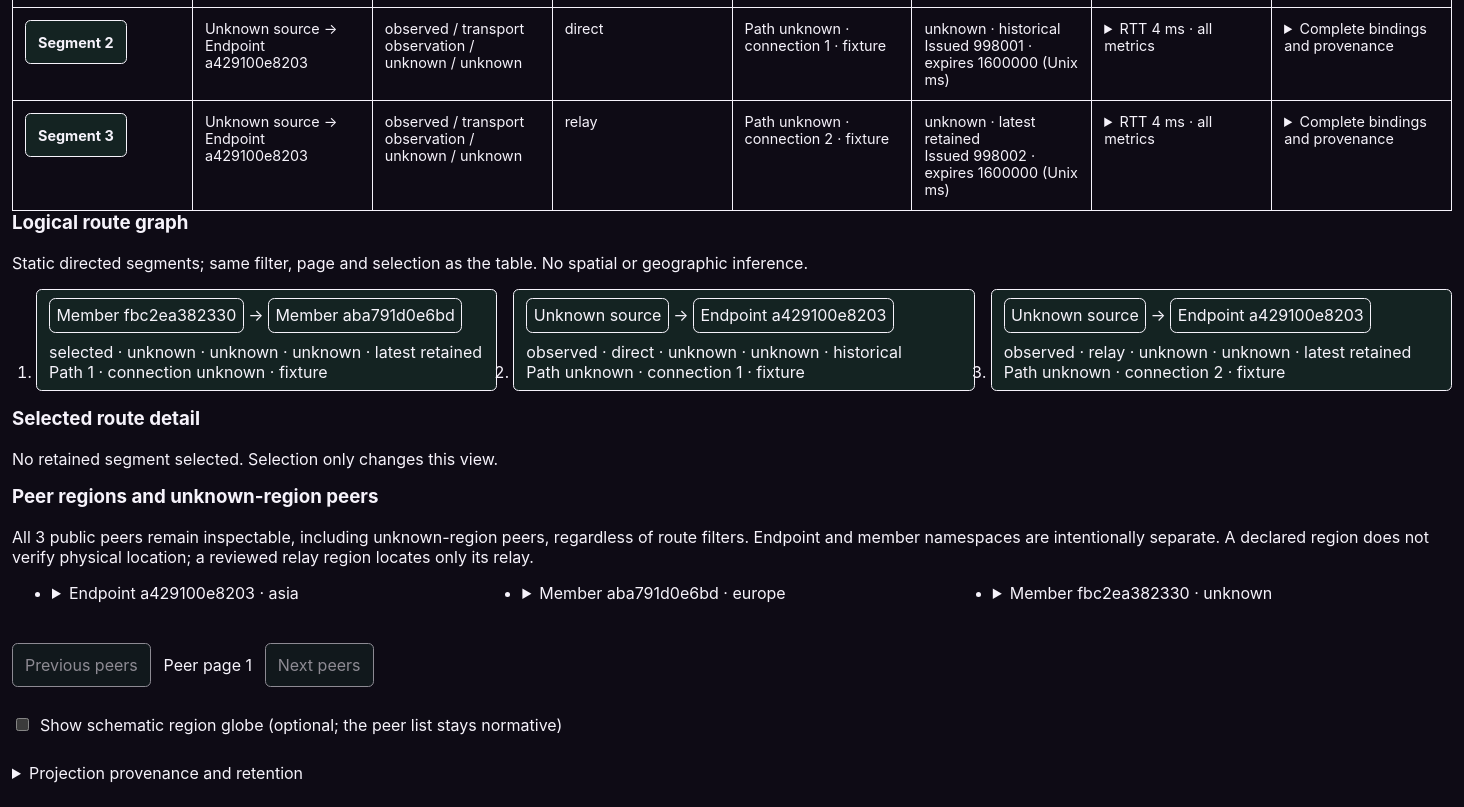
it: A14b optional globe in the route explorer › shows exactly the published region counts, with unknown peers off-globe
The width and height of the screenshot is (1464, 807).
(page scrolled)
Click the checkbox labelled "Show schematic region globe".
click(22, 725)  # box [16,718,29,731]
(page scrolled)
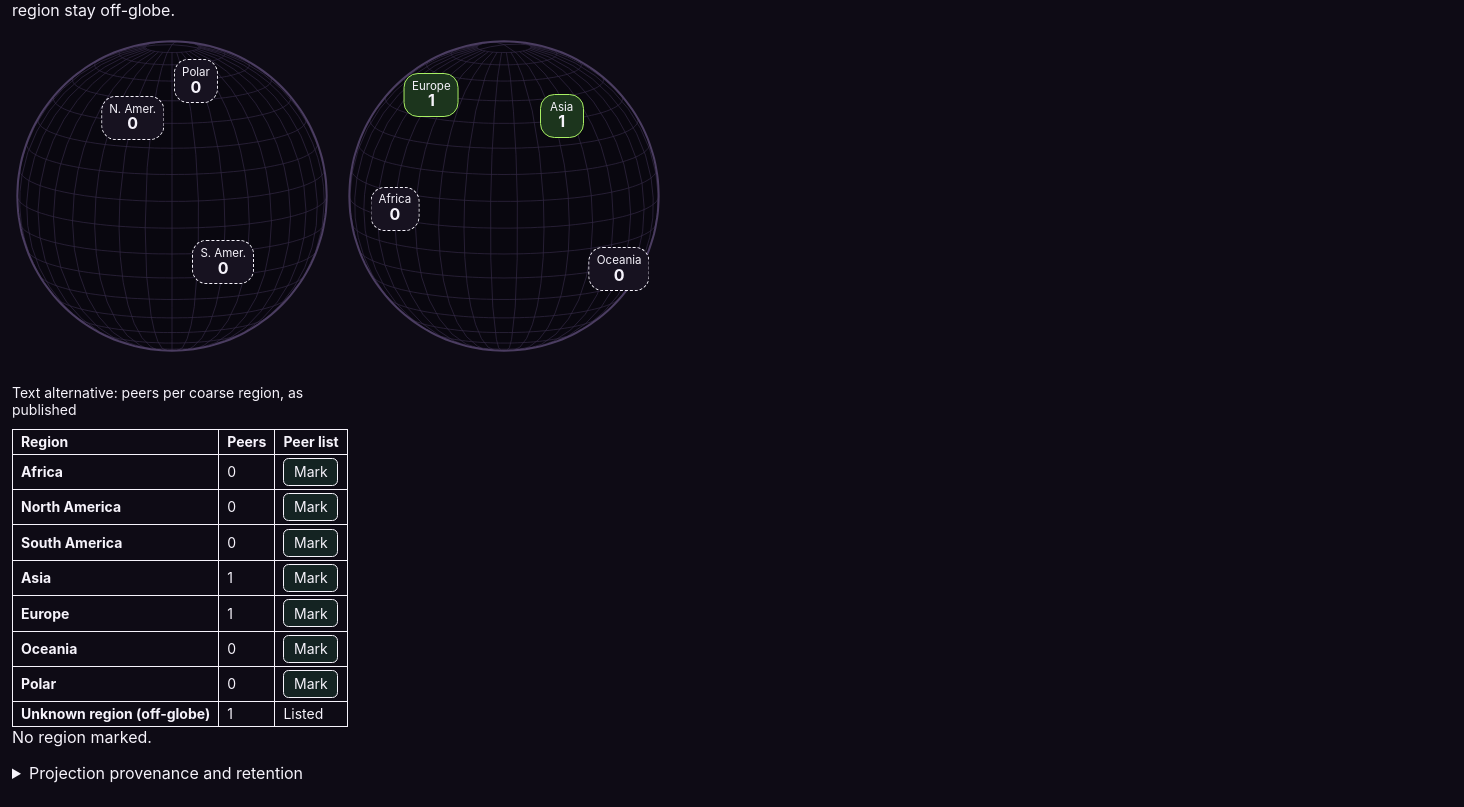
Expected: the 1st text "1" is shown, [428,92,435,110]
Expected: the 2nd cell "1" is shown, [219,596,275,631]
Expected: the 1st text "0" is shown, [191,79,201,96]
